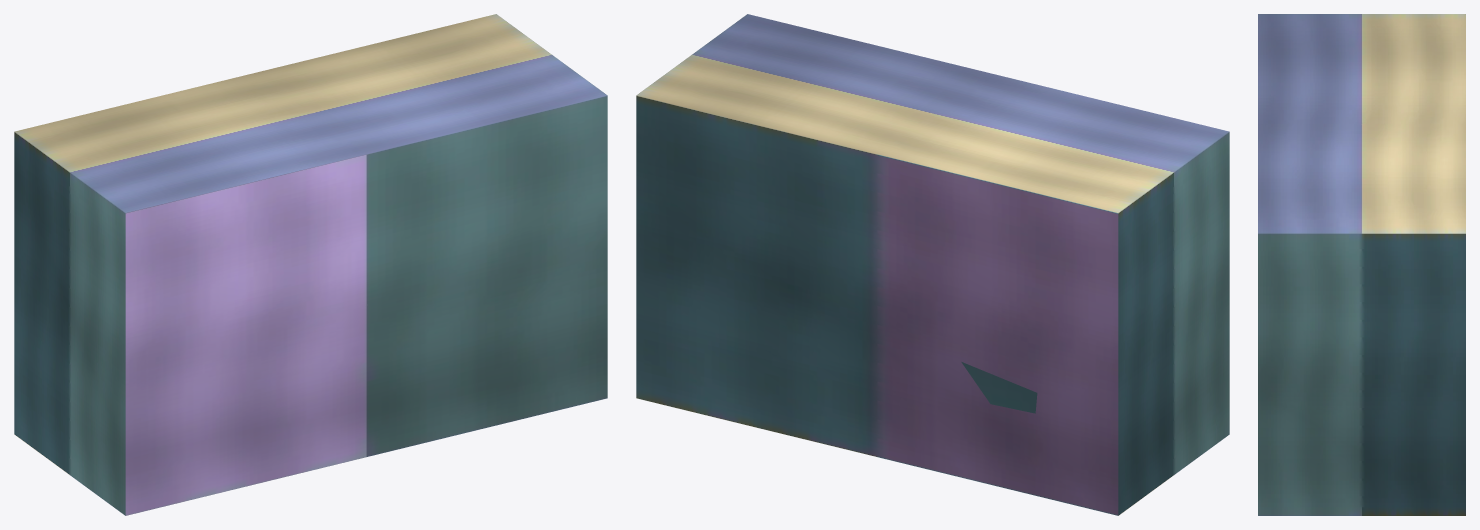
The model's file is hedge_dark.glb.
The picture shows the model from 3 angles, left to right: view 1: azimuth 30°, elevation 25°; view 2: azimuth 150°, elevation 25°; view 3: azimuth 270°, elevation 25°; orthographic projection. The views are drawn at different scales.
Visible parts, largest first — view 1: col; view 2: col, lod0; view 3: col.
Part boxes in pixels (left/top/right/bottom): col: left=14, top=14, right=607, bottom=515; col: left=636, top=14, right=1229, bottom=515; lod0: left=961, top=362, right=1037, bottom=413; col: left=1258, top=14, right=1465, bottom=515.
Bounding box in the file's own units: 2 × 1.2 × 0.7999.
Materials: 1 (1 with a texture image).
